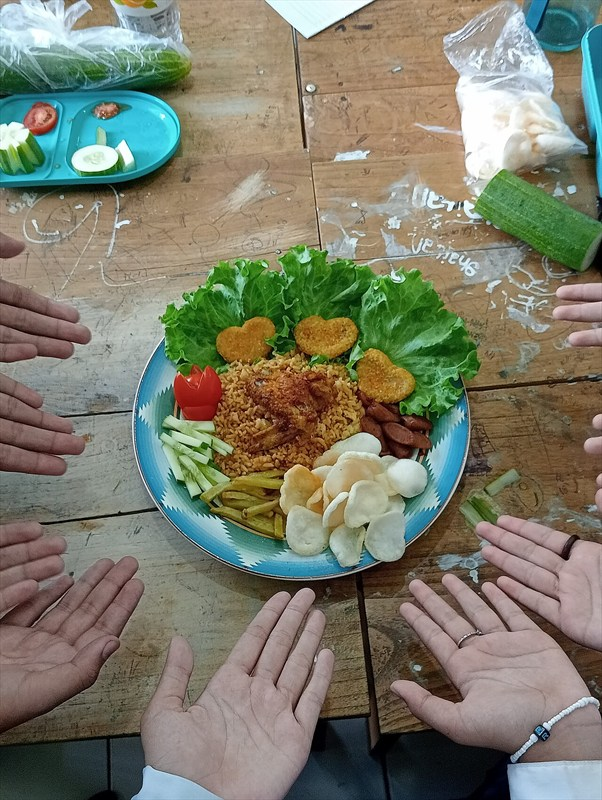Nasi Goreng: (32, 32, 544, 655)
